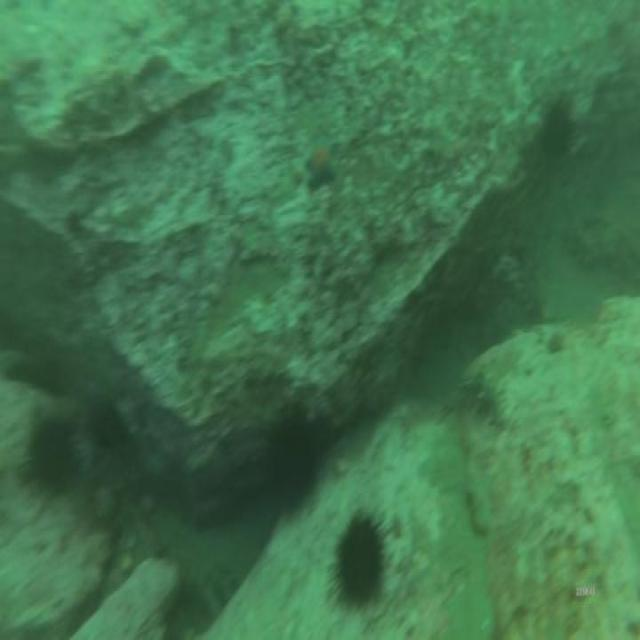echinus: (269, 427, 315, 502), (339, 522, 381, 602), (30, 426, 74, 492), (540, 103, 572, 161), (95, 403, 125, 453)
holothurian: (463, 368, 507, 427)
starfish: (304, 139, 333, 187)
